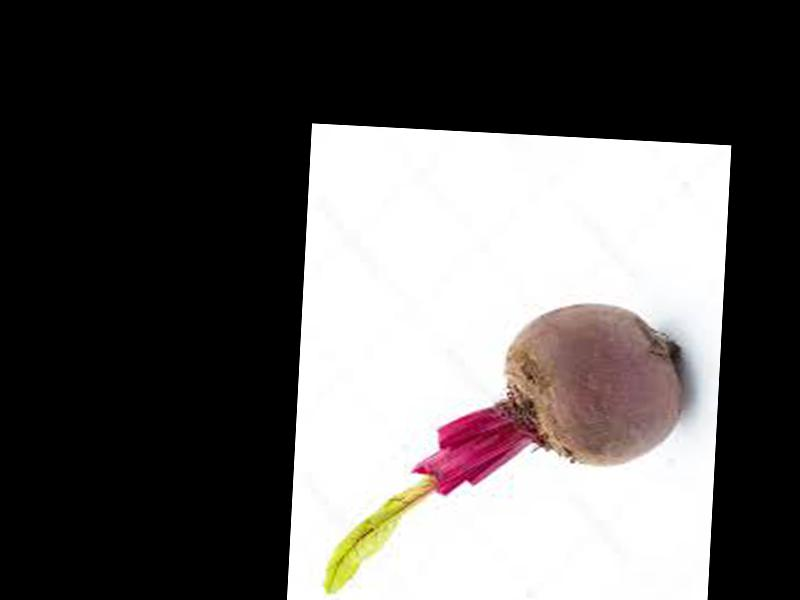Beet: (324, 289, 686, 600)
